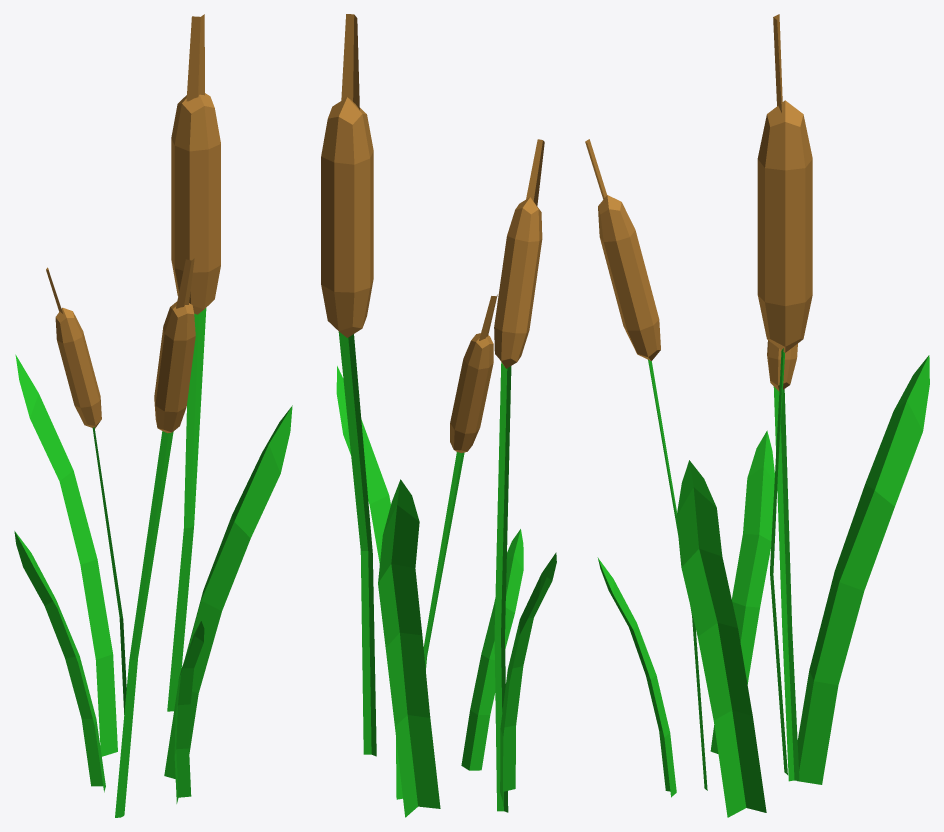
The model's file is Cattail.fbx.
The picture shows the model from 3 angles, left to right: view 1: azimuth 30°, elevation 25°; view 2: azimuth 150°, elevation 25°; view 3: azimuth 270°, elevation 25°; orthographic projection. The views are drawn at different scales.
Parts seen in each view (by area): view 1: Cattail; view 2: Cattail; view 3: Cattail.
Boxes of the visible parts, bbox=[...] form: Cattail: bbox=[14, 14, 292, 817]; Cattail: bbox=[321, 14, 556, 817]; Cattail: bbox=[585, 14, 929, 817].
Bounding box in the file's own units: 49.36 × 146 × 54.82.
